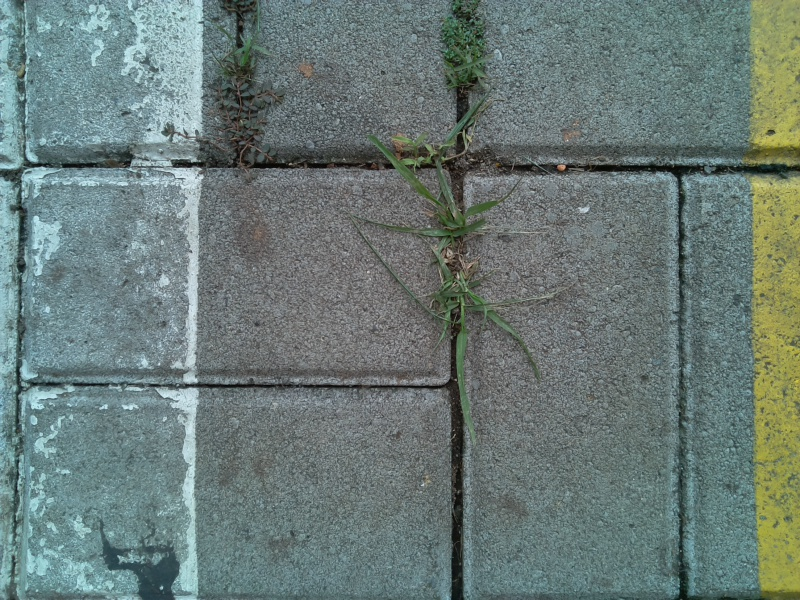Weed: (385, 147, 503, 252), (410, 251, 512, 372), (192, 75, 291, 175), (388, 109, 492, 201), (434, 14, 495, 96), (223, 25, 276, 72), (696, 160, 722, 180)
